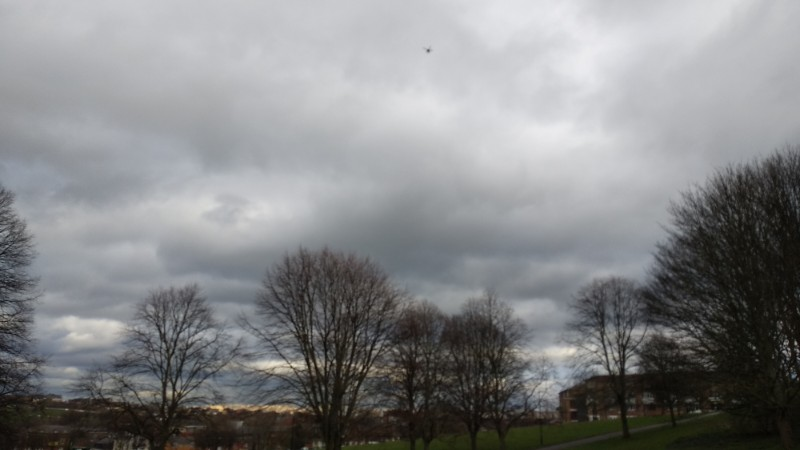drone: (424, 46, 434, 55)
